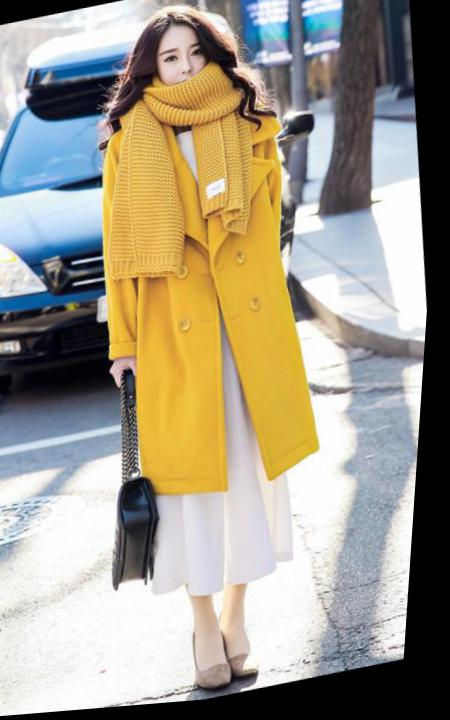WRONG: (151, 38, 216, 104)
